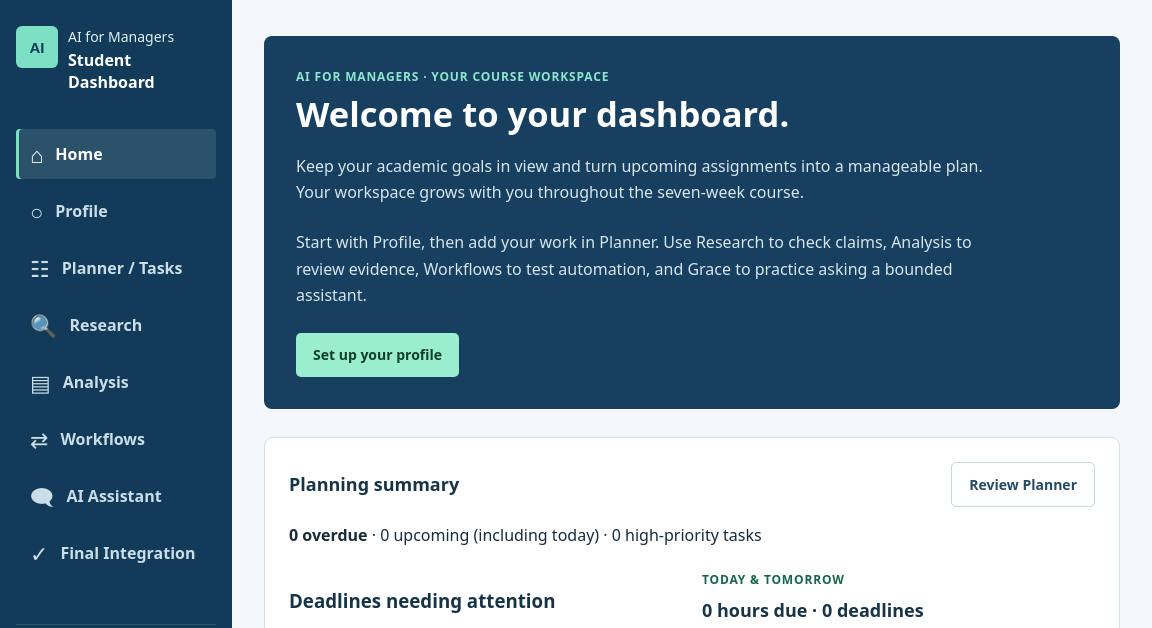
Test: Week 6 Grace › adds navigation without replacing prior destinations and renders Grace
(page scrolled)
Expected: the button "⌂ Home" is shown, [16,129,216,179]
Expected: the button "○ Profile" is shown, [16,186,216,236]
Click the button "🗨 AI Assistant": (116, 496) [16,471,216,521]
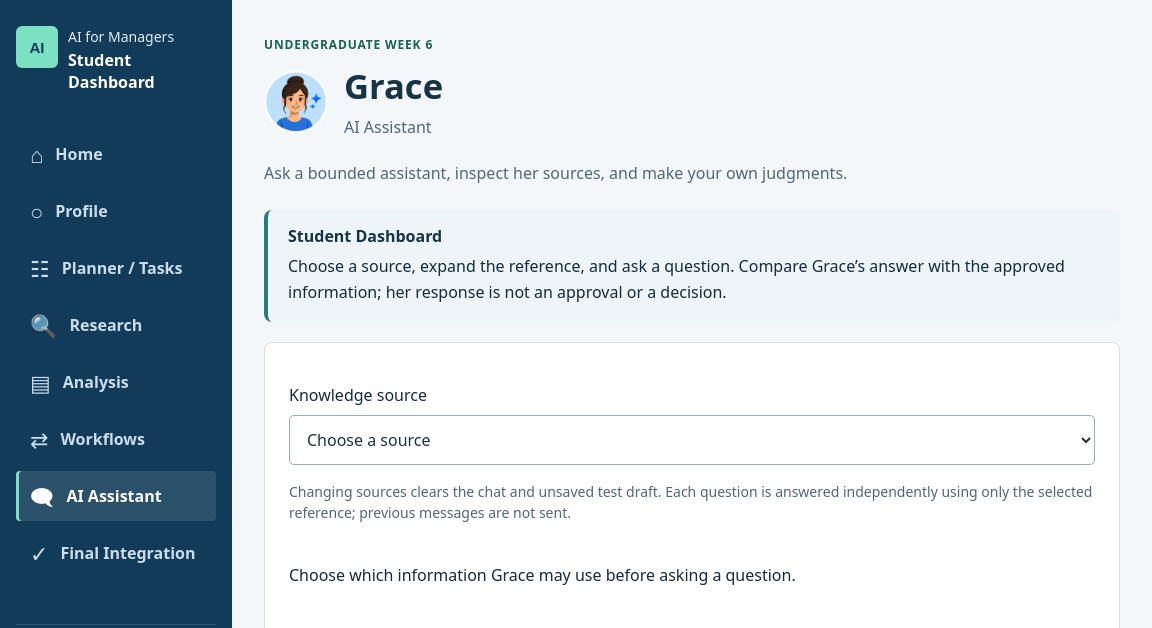
Result: the heading "Grace" is shown at [344,64,443,107]
Result: the dropdown labelled "Knowledge source" shows "Choose a source" at [289,415,1095,465]
